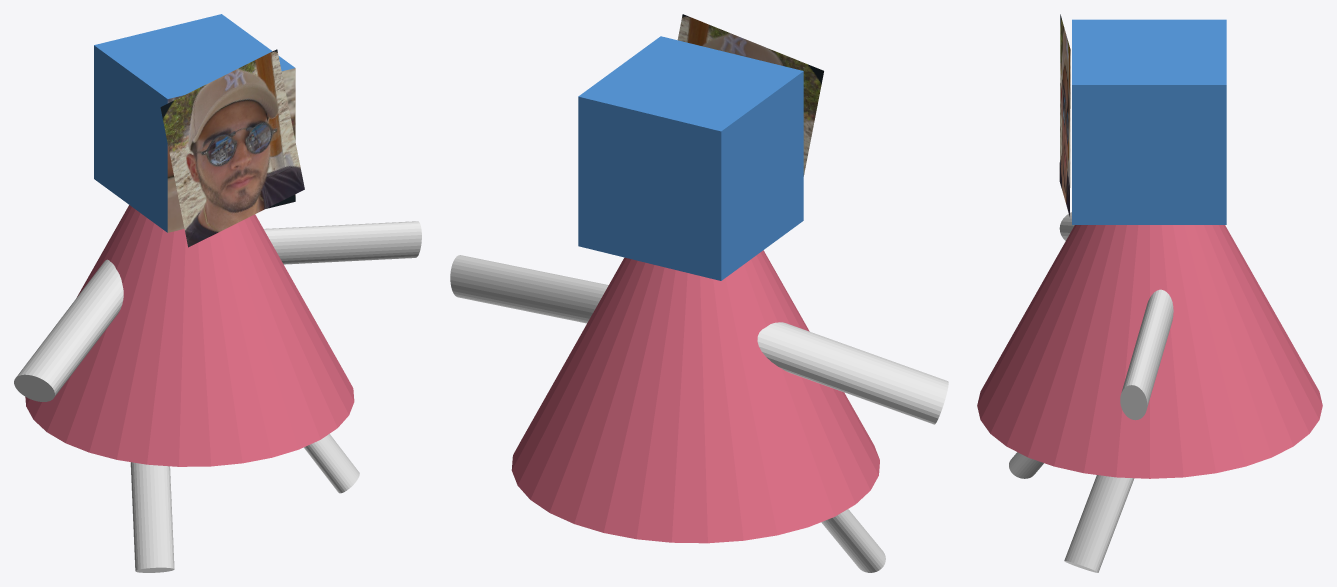
3 renders of one model, left to right at view 1: azimuth 30°, elevation 25°; view 2: azimuth 150°, elevation 25°; view 3: azimuth 270°, elevation 25°, orthographic. The views are drawn at different scales.
Visible parts, largest first — view 1: Cone, Cubo, Opera Instantâneo_2024-06-15_175554_web.whatsapp.com, Cilindro, Cilindro.001, Cilindro.002, Cilindro.003; view 2: Cone, Cubo, Cilindro, Cilindro.001, Opera Instantâneo_2024-06-15_175554_web.whatsapp.com, Cilindro.002; view 3: Cone, Cubo, Cilindro.001, Cilindro.003, Opera Instantâneo_2024-06-15_175554_web.whatsapp.com, Cilindro.002.
Part boxes in pixels (left/top/right/bottom): Cone: left=25, top=205, right=354, bottom=466; Cubo: left=94, top=14, right=295, bottom=232; Opera Instantâneo_2024-06-15_175554_web.whatsapp.com: left=160, top=49, right=304, bottom=247; Cilindro: left=14, top=259, right=123, bottom=401; Cilindro.001: left=264, top=221, right=421, bottom=264; Cilindro.002: left=130, top=462, right=174, bottom=572; Cilindro.003: left=304, top=434, right=359, bottom=493; Cone: left=511, top=250, right=879, bottom=543; Cubo: left=578, top=36, right=803, bottom=280; Cilindro: left=757, top=322, right=948, bottom=424; Cilindro.001: left=450, top=255, right=608, bottom=323; Opera Instantâneo_2024-06-15_175554_web.whatsapp.com: left=677, top=14, right=823, bottom=176; Cilindro.002: left=821, top=509, right=885, bottom=572; Cone: left=977, top=225, right=1322, bottom=478; Cubo: left=1072, top=19, right=1226, bottom=224; Cilindro.001: left=1120, top=289, right=1173, bottom=420; Cilindro.003: left=1064, top=475, right=1134, bottom=572; Opera Instantâneo_2024-06-15_175554_web.whatsapp.com: left=1059, top=14, right=1070, bottom=216; Cilindro.002: left=1009, top=452, right=1043, bottom=478.
Size of the model in its own units: 2.93 by 3.18 by 2.
Materials: 4 (2 with a texture image).
